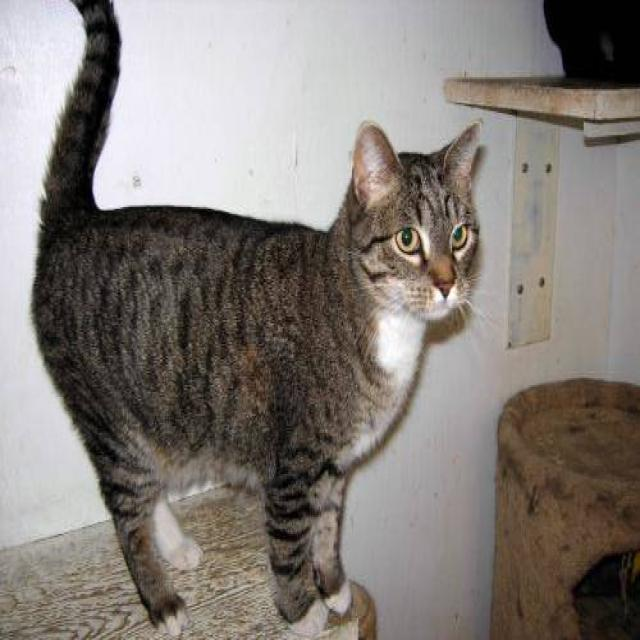cat: (28, 0, 487, 638)
